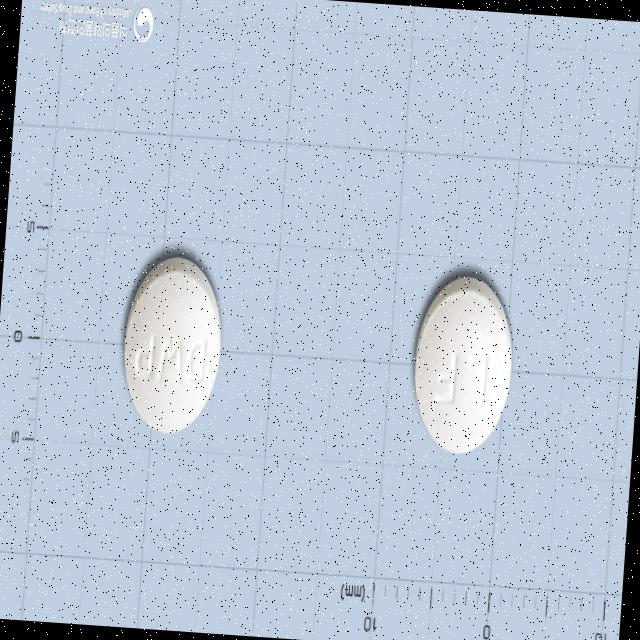Lefloxin: (407, 272, 518, 458), (118, 252, 226, 438)
